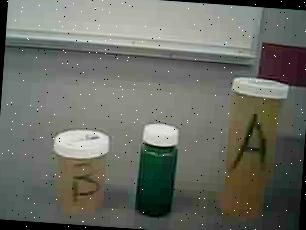Bottle A: (216, 69, 291, 230)
Bottle B: (38, 125, 114, 222)
Bottle C: (128, 119, 186, 222)
